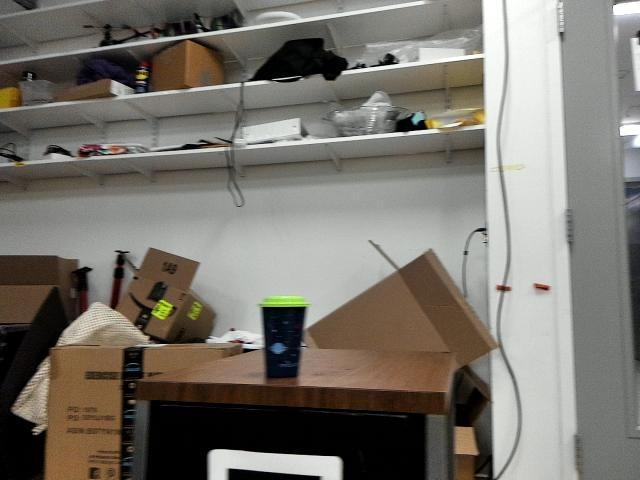useless_cup: (258, 293, 306, 373)
